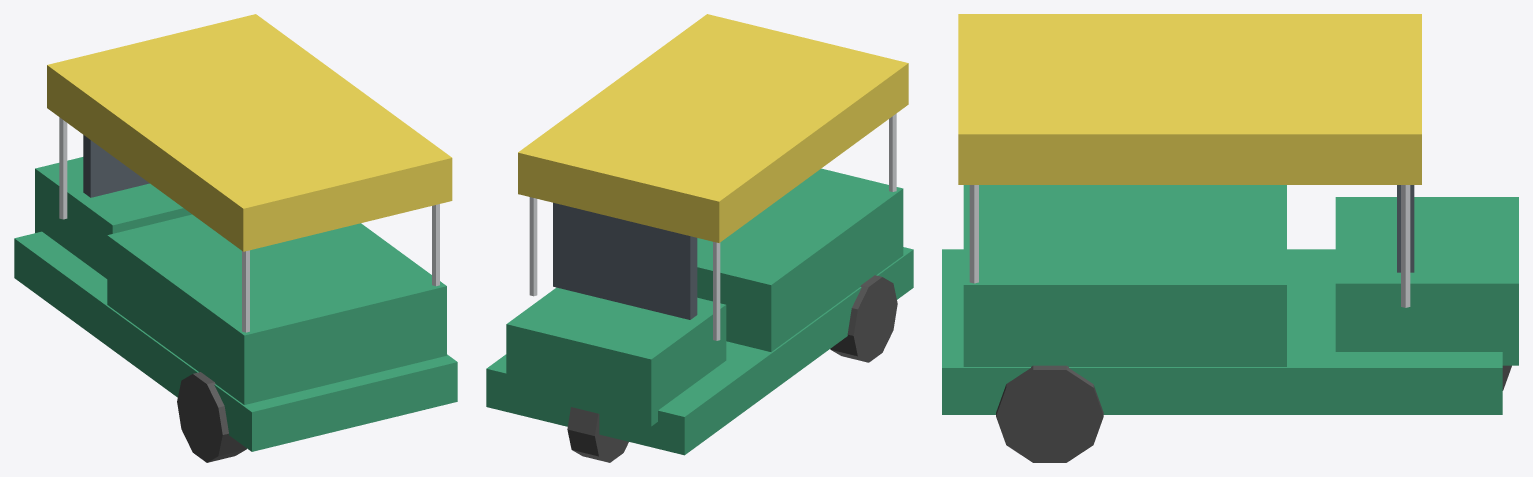
Rendered from auto_rickshaw.glb.
3 views of the same model, side by side, from view 1: azimuth 30°, elevation 25°; view 2: azimuth 150°, elevation 25°; view 3: azimuth 270°, elevation 25° (orthographic). The views are drawn at different scales.
Visible parts, largest first — view 1: auto_rickshaw; view 2: auto_rickshaw; view 3: auto_rickshaw.
Boxes of the visible parts, bbox=[...] form: auto_rickshaw: bbox=[14, 14, 457, 462]; auto_rickshaw: bbox=[486, 14, 913, 462]; auto_rickshaw: bbox=[942, 14, 1518, 462].
Bounding box in the file's own units: 1.38 × 1.67 × 2.67.
